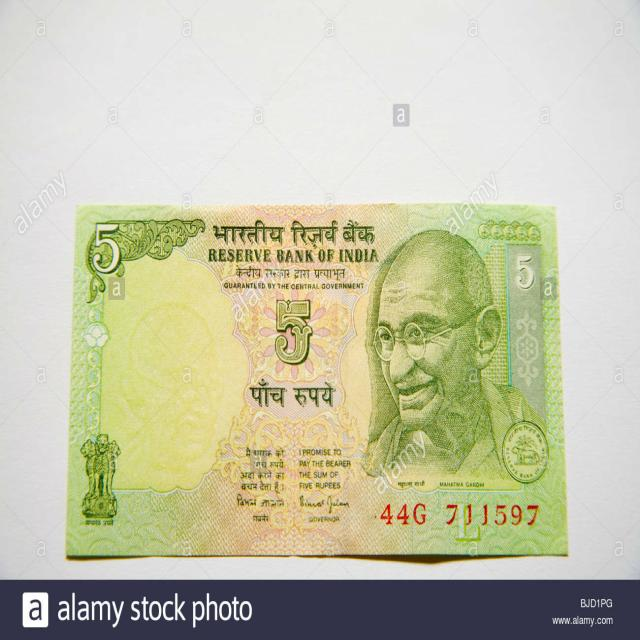5IndianRupees: (70, 201, 556, 555)
